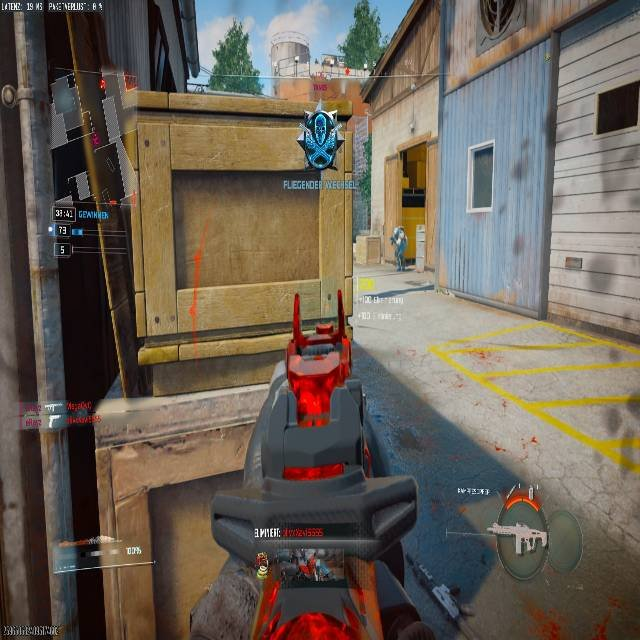head: (394, 226, 401, 234)
player: (390, 226, 407, 272)
